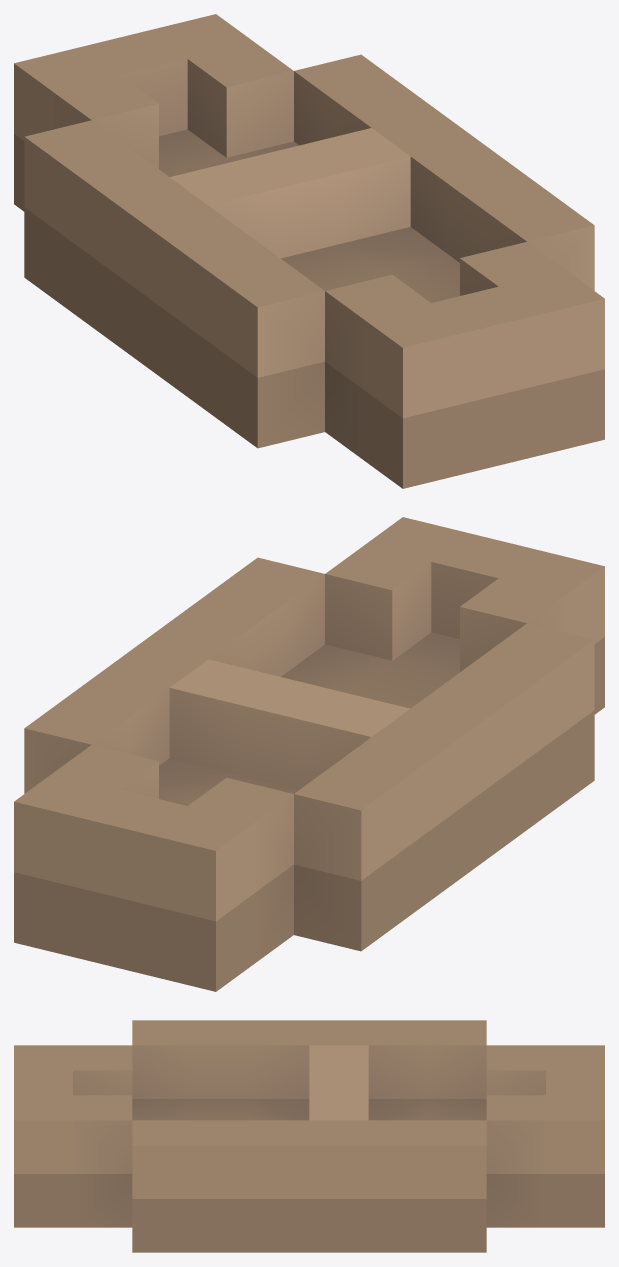
File: life_boat.glb
3 views of the same model, one above another, from view 1: azimuth 30°, elevation 25°; view 2: azimuth 150°, elevation 25°; view 3: azimuth 270°, elevation 25° (orthographic). The views are drawn at different scales.
Visible parts, largest first — view 1: life_boat; view 2: life_boat; view 3: life_boat.
Part boxes in pixels (x1=…): life_boat: x1=14, y1=14, x2=604, y2=488; life_boat: x1=14, y1=517, x2=604, y2=991; life_boat: x1=14, y1=1020, x2=604, y2=1252.
Bounding box in the file's own units: 0.3125 × 0.125 × 0.625.
